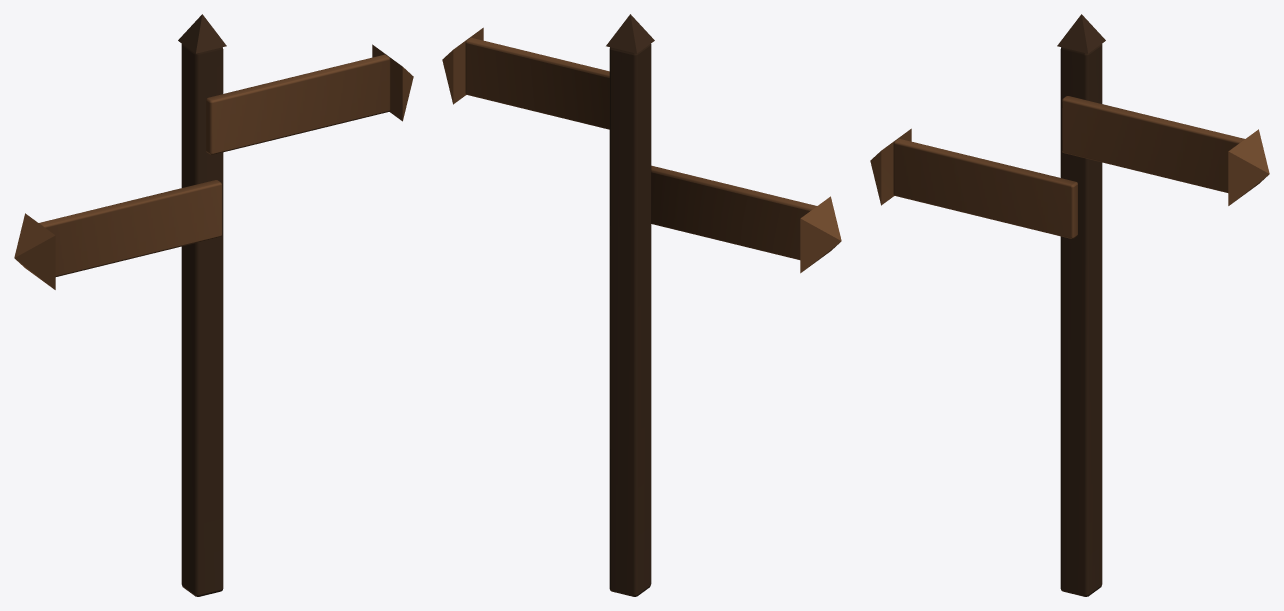
The model's file is signpost.glb.
3 views of the same model, side by side, from view 1: azimuth 30°, elevation 25°; view 2: azimuth 150°, elevation 25°; view 3: azimuth 330°, elevation 25° (orthographic).
Parts seen in each view (by area): view 1: Post, Board0, Board1, Arrow1, Arrow0, PostTop; view 2: Post, Board1, Board0, Arrow1, Arrow0, PostTop; view 3: Post, Board1, Board0, Arrow0, Arrow1, PostTop.
Part boxes in pixels (box(x1,y1,x2,y2)): Post: box(181, 44, 223, 596); Board0: box(206, 54, 390, 154); Board1: box(39, 180, 221, 276); Arrow1: box(14, 213, 55, 289); Arrow0: box(372, 44, 413, 121); PostTop: box(178, 14, 226, 53); Post: box(609, 44, 651, 596); Board1: box(651, 165, 816, 259); Board0: box(465, 37, 609, 129); Arrow1: box(800, 196, 841, 273); Arrow0: box(442, 27, 483, 104); PostTop: box(606, 14, 654, 53); Post: box(1060, 44, 1102, 596); Board1: box(893, 138, 1077, 238); Board0: box(1062, 96, 1244, 192); Arrow0: box(1228, 129, 1269, 205); Arrow1: box(870, 128, 911, 205); PostTop: box(1057, 14, 1105, 53).
Bounding box in the file's own units: 1.99 × 2.74 × 0.3086.
